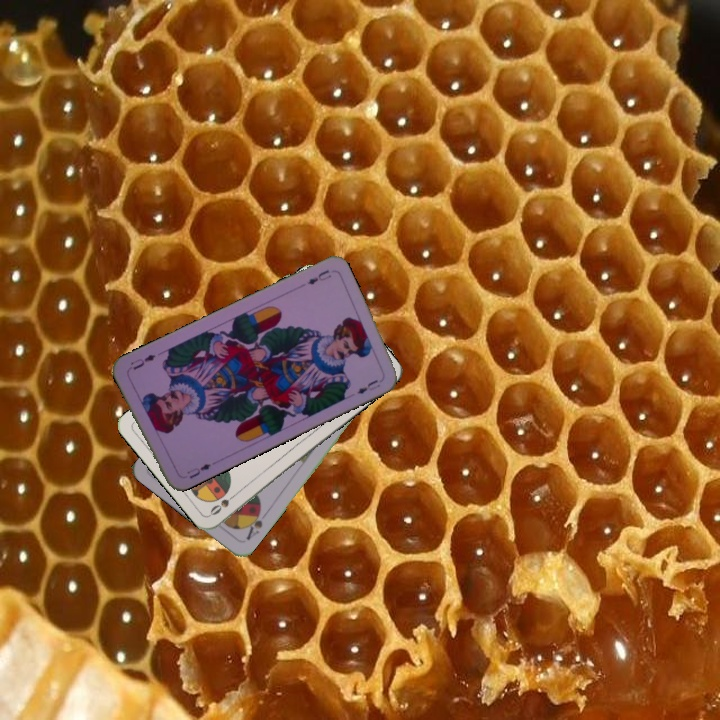EU: (183, 459, 214, 481), (304, 266, 334, 287)
SA: (241, 506, 269, 543)
SO: (206, 488, 241, 518)
